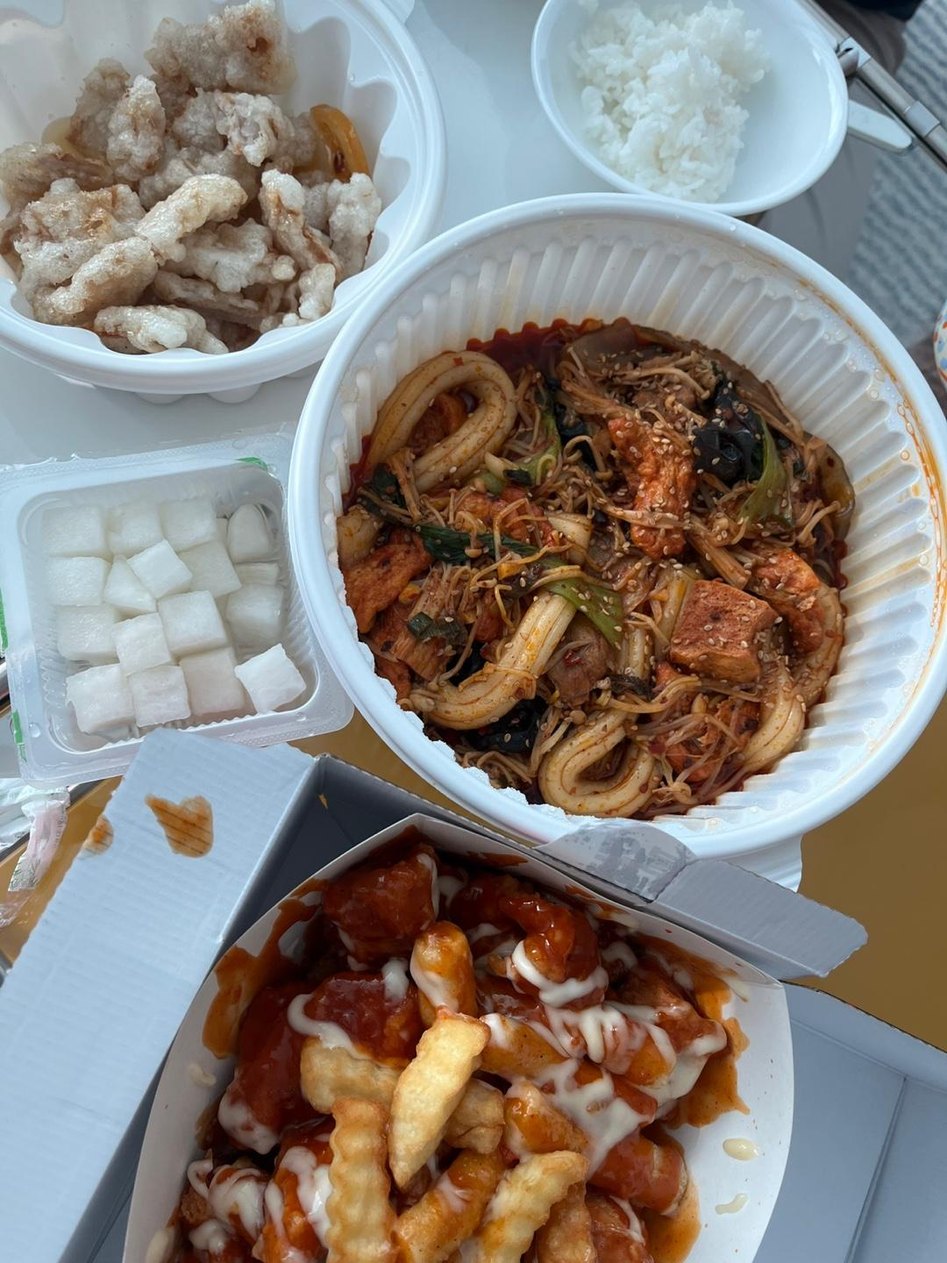Lunch Box: (0, 731, 946, 1262), (289, 195, 946, 887), (0, 0, 445, 401), (0, 432, 351, 787), (532, 0, 846, 214)
